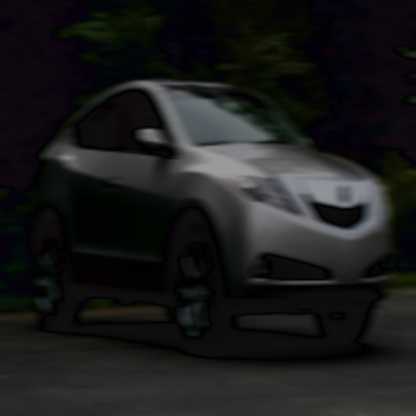Vehicle: (29, 80, 392, 354)
